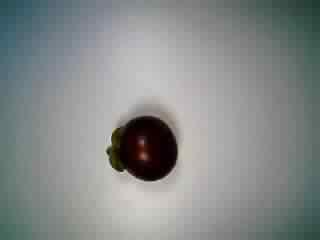mangosteen: (100, 110, 181, 187)
